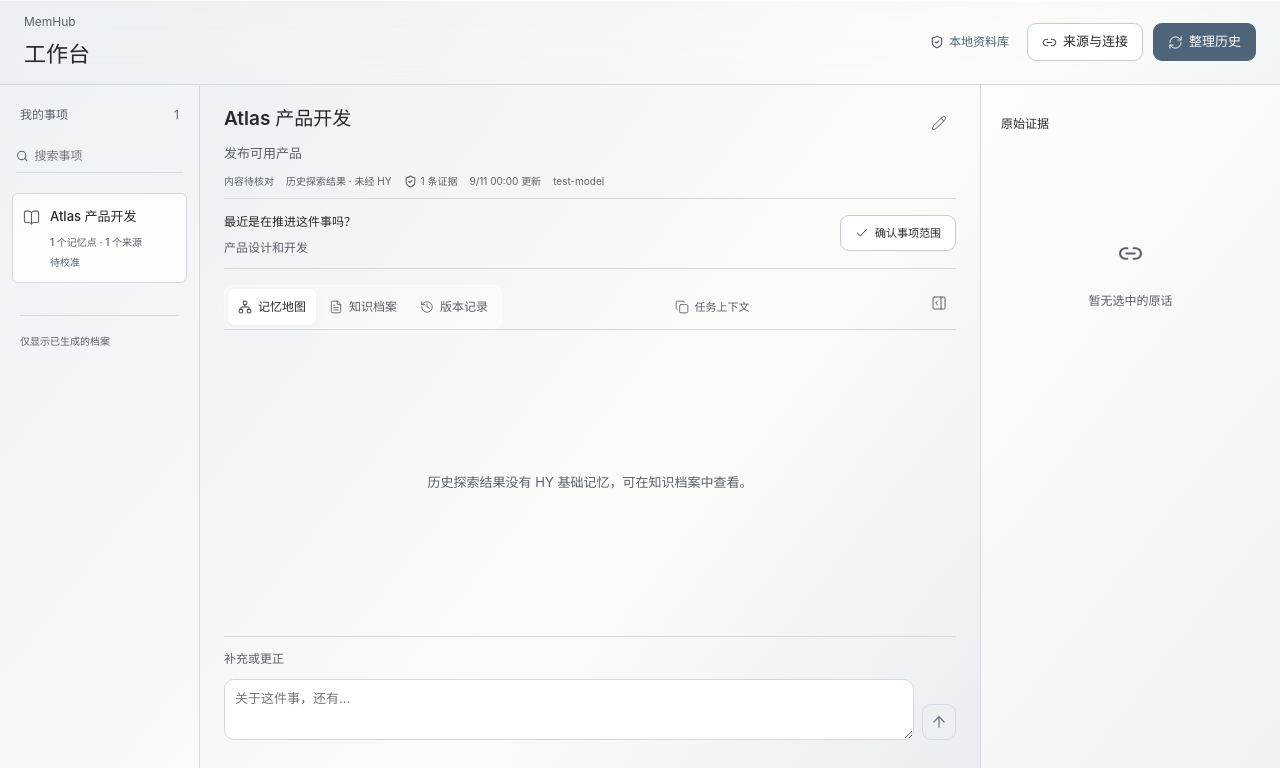
opens source evidence and preserves unknown message time
Expected: the heading "Atlas 产品开发" is shown, [224, 105, 351, 133]
Click the tab "知识档案" at (363, 307), box [319, 289, 407, 325]
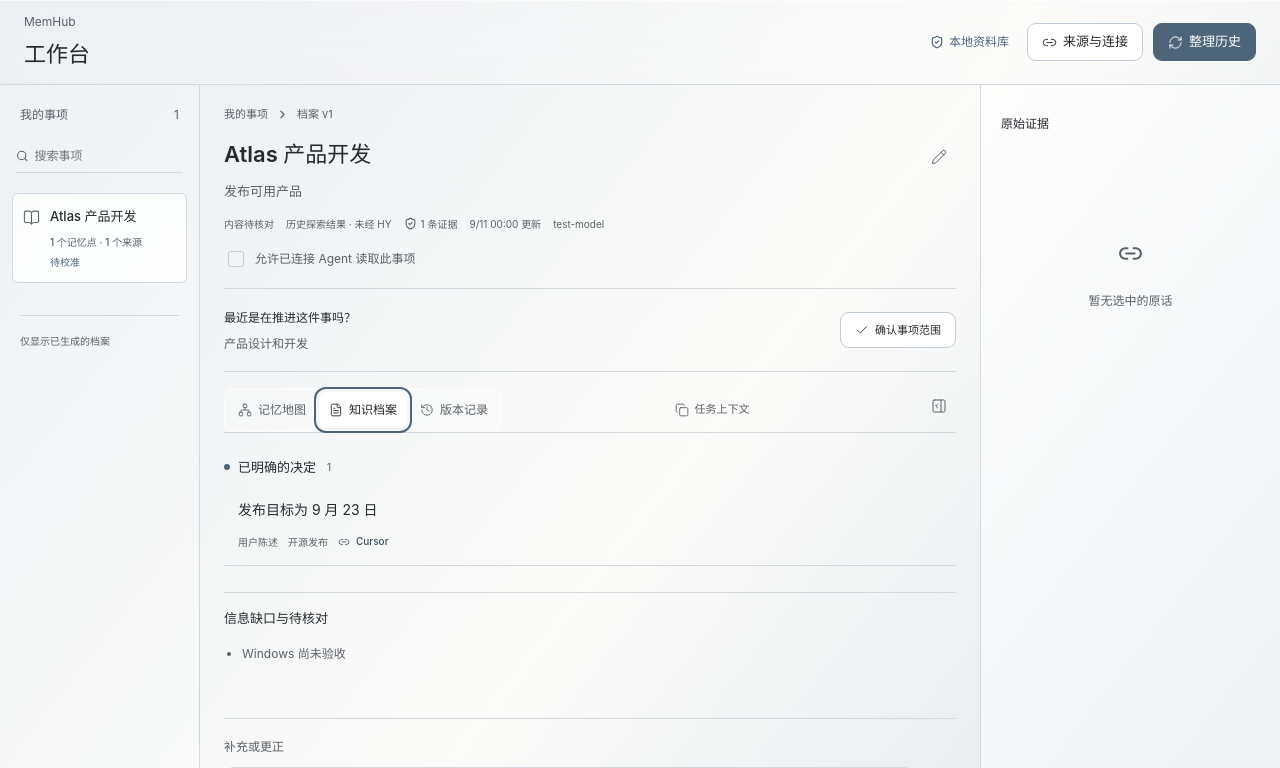
Click the button with aria-label "查看原话" at (363, 542), box [338, 531, 388, 553]
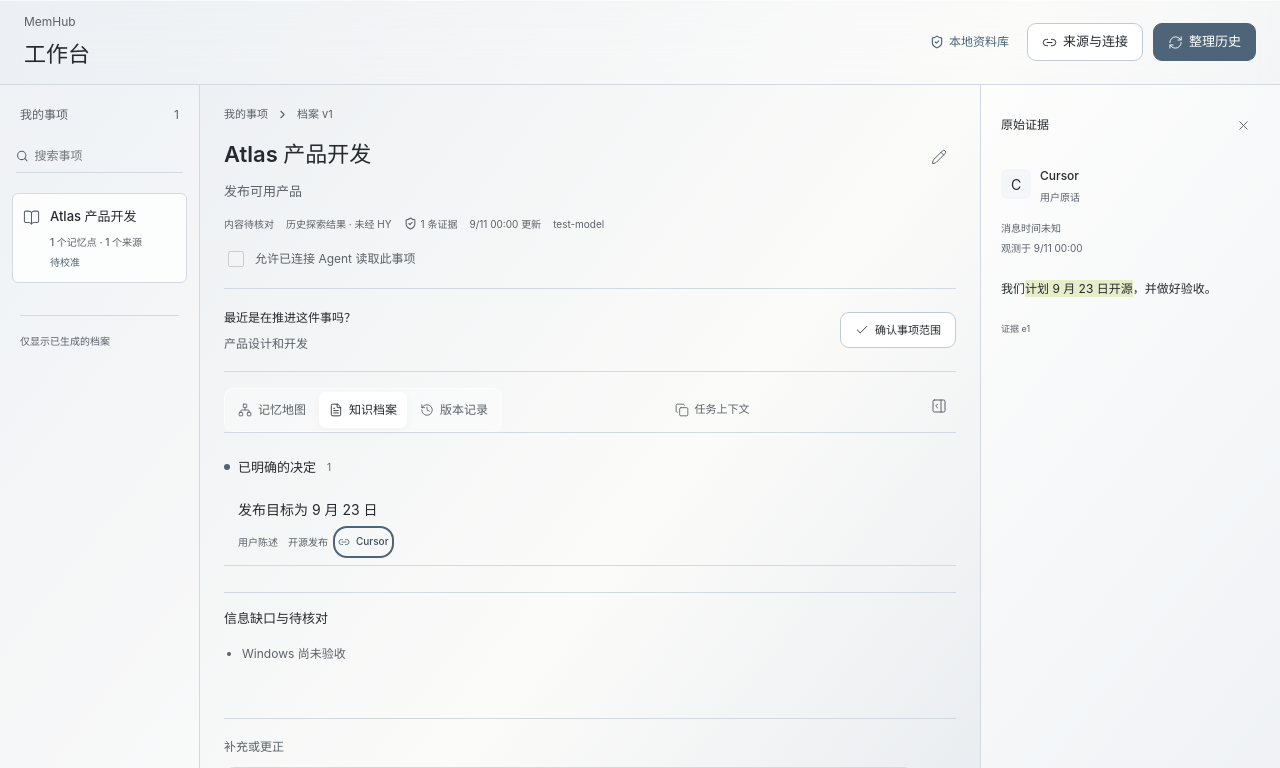
Expected: the text "消息时间未知" is shown, [1001, 222, 1061, 234]
Expected: the element with class "evidence-verbatim" reads "我们计划 9 月 23 日开源，并做好验收。", [1001, 280, 1217, 297]
Expected: the text "计划 9 月 23 日开源" is shown, [1025, 280, 1133, 297]
